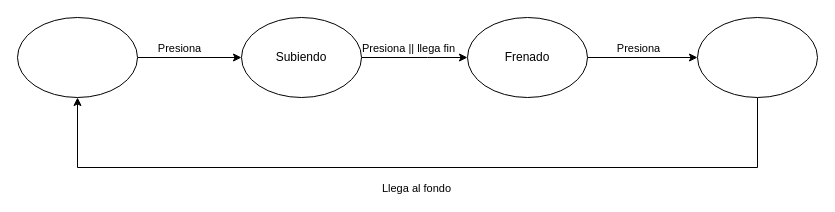
Some shapes in this 835 by 212 pixel diagram are drawn without their labels. Here are the shapes that lost their labels. From the top down, the box of each, then its label:
(16, 16, 138, 98): Cerrado
(696, 16, 818, 98): Bajando
